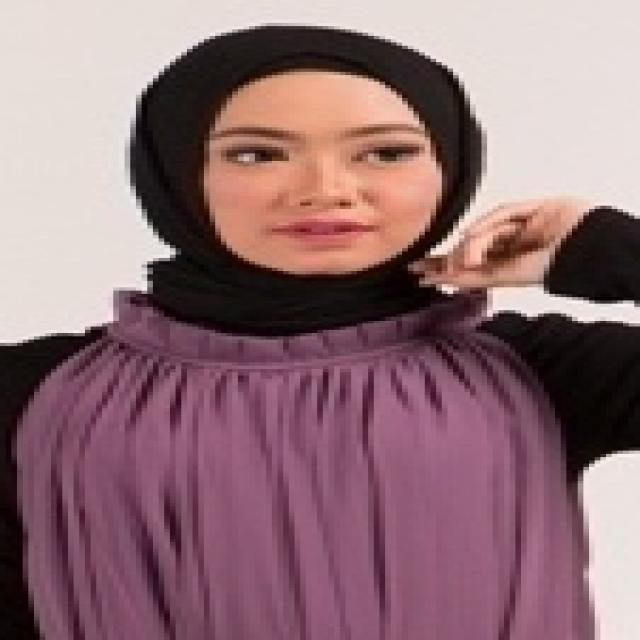head: (134, 24, 476, 279)
